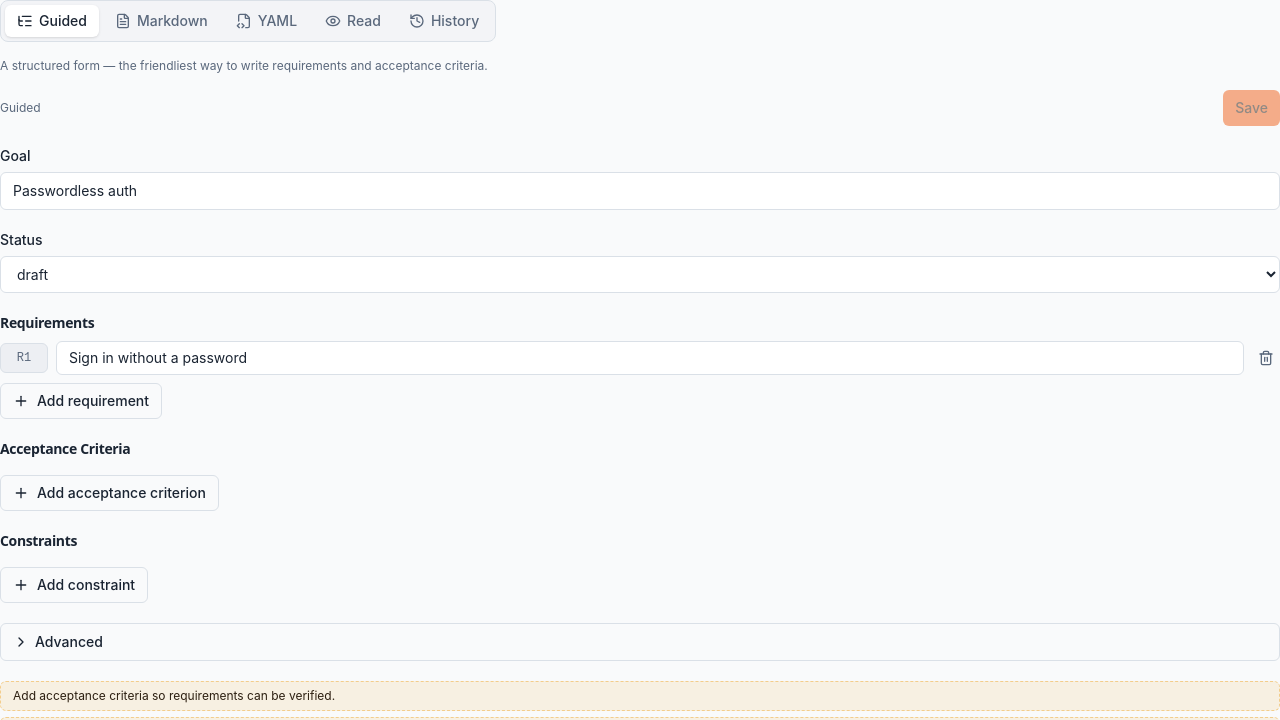
SpecStudio › rejecting in Read mode posts the note to the server and renders the returned status
Click the tab with test id "studio-mode-read".
click(353, 21)  # box [313,5,393,37]
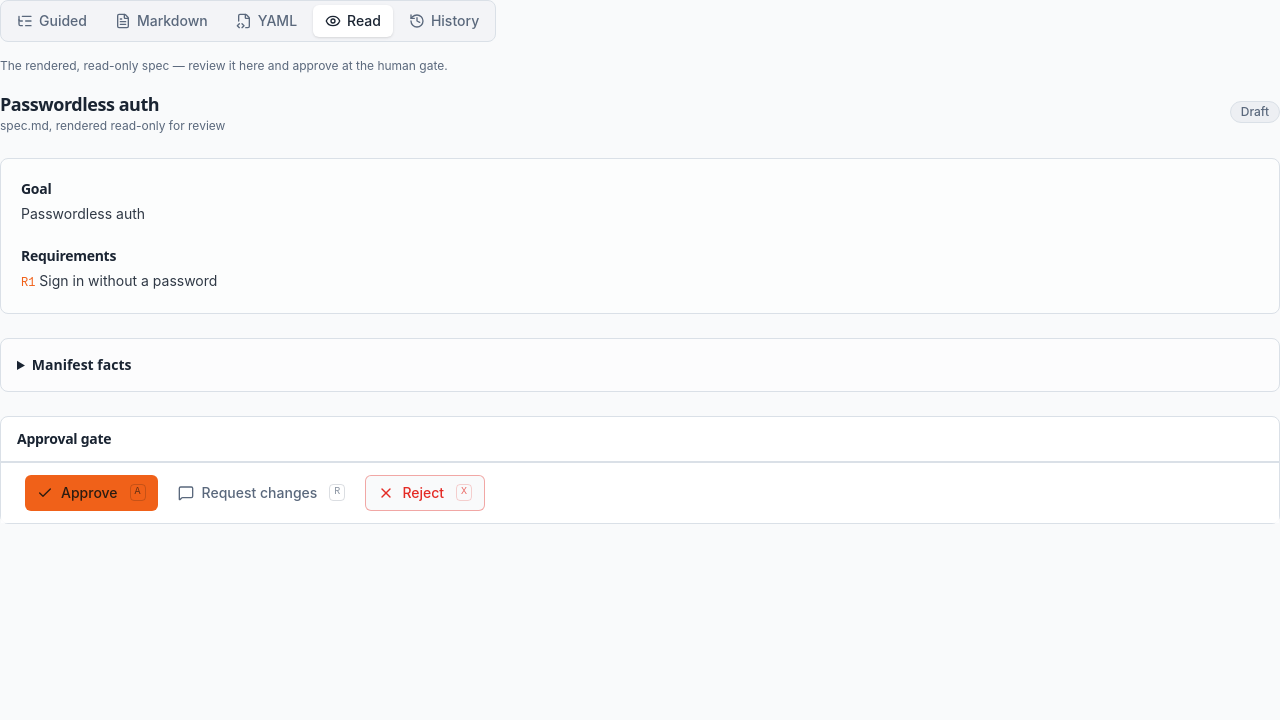
Result: the element with test id "read-mode" is shown
Click the button with test id "decision-reject".
click(425, 492)  # box [365,474,485,510]
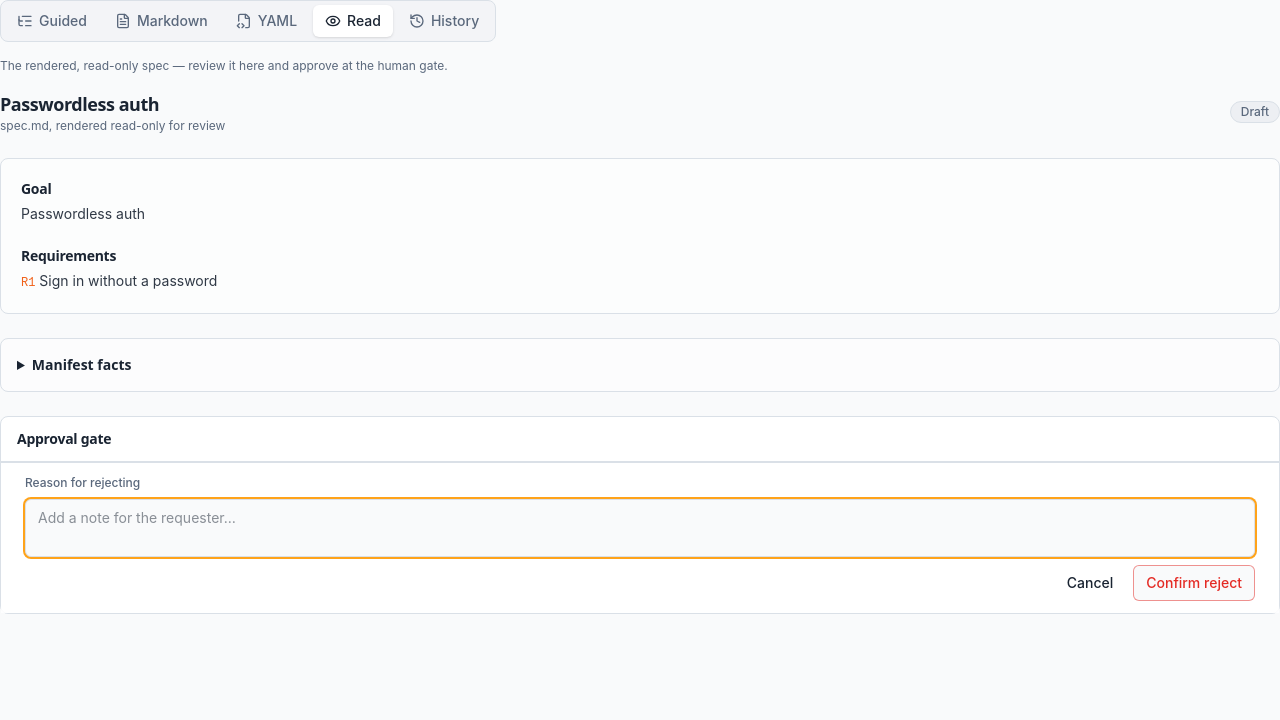
Type "Missing offline handling" into the text box labelled "Reason for rejecting".
click(640, 528); type("Missing offline handling")  # box [25,498,1255,556]
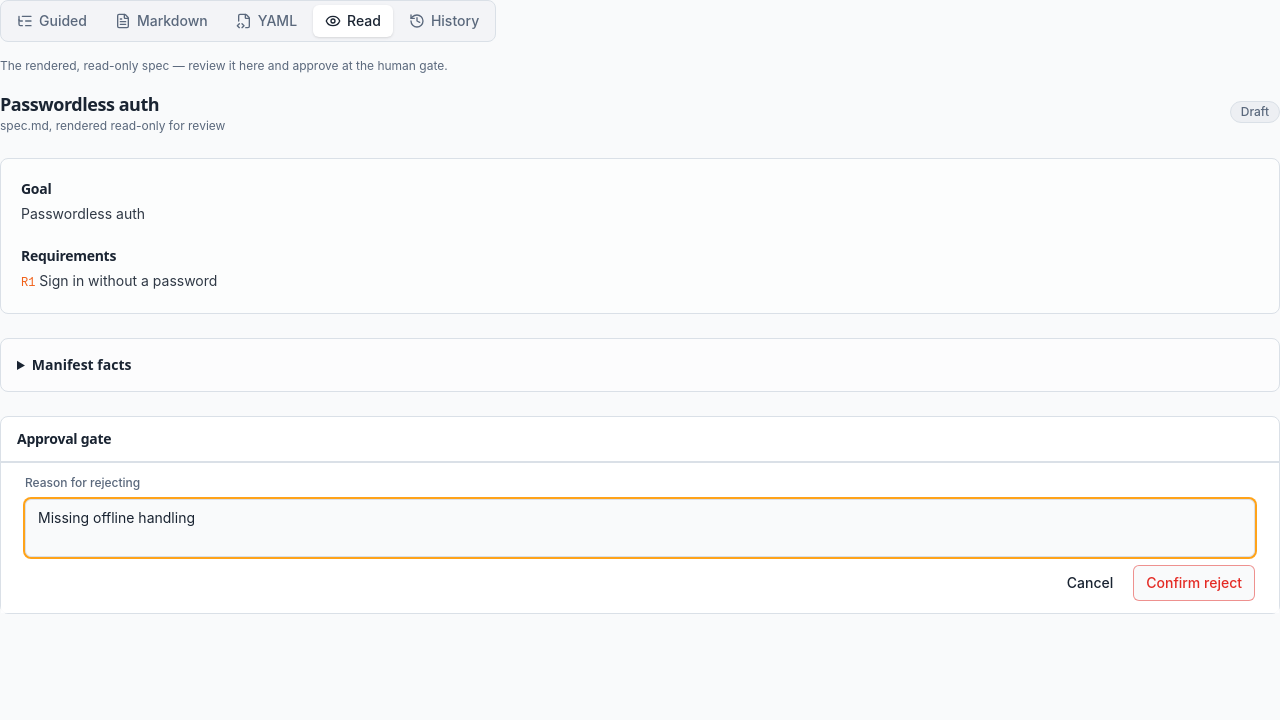
Click the button with test id "confirm-decision".
click(1194, 582)  # box [1133,564,1255,600]
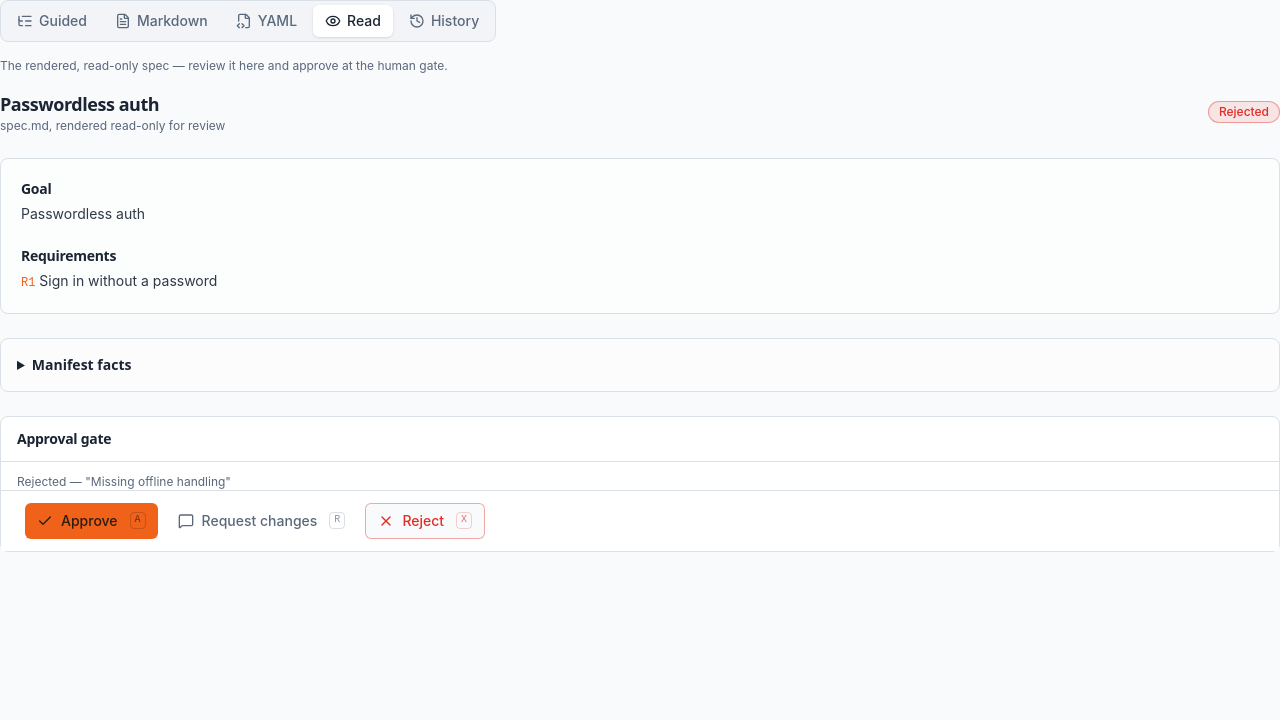
Result: the text with test id "read-status" reads "Rejected" at [1219,104,1269,119]
Result: the message with test id "review-decision" shows "Missing offline handling" at [66,474,231,488]
